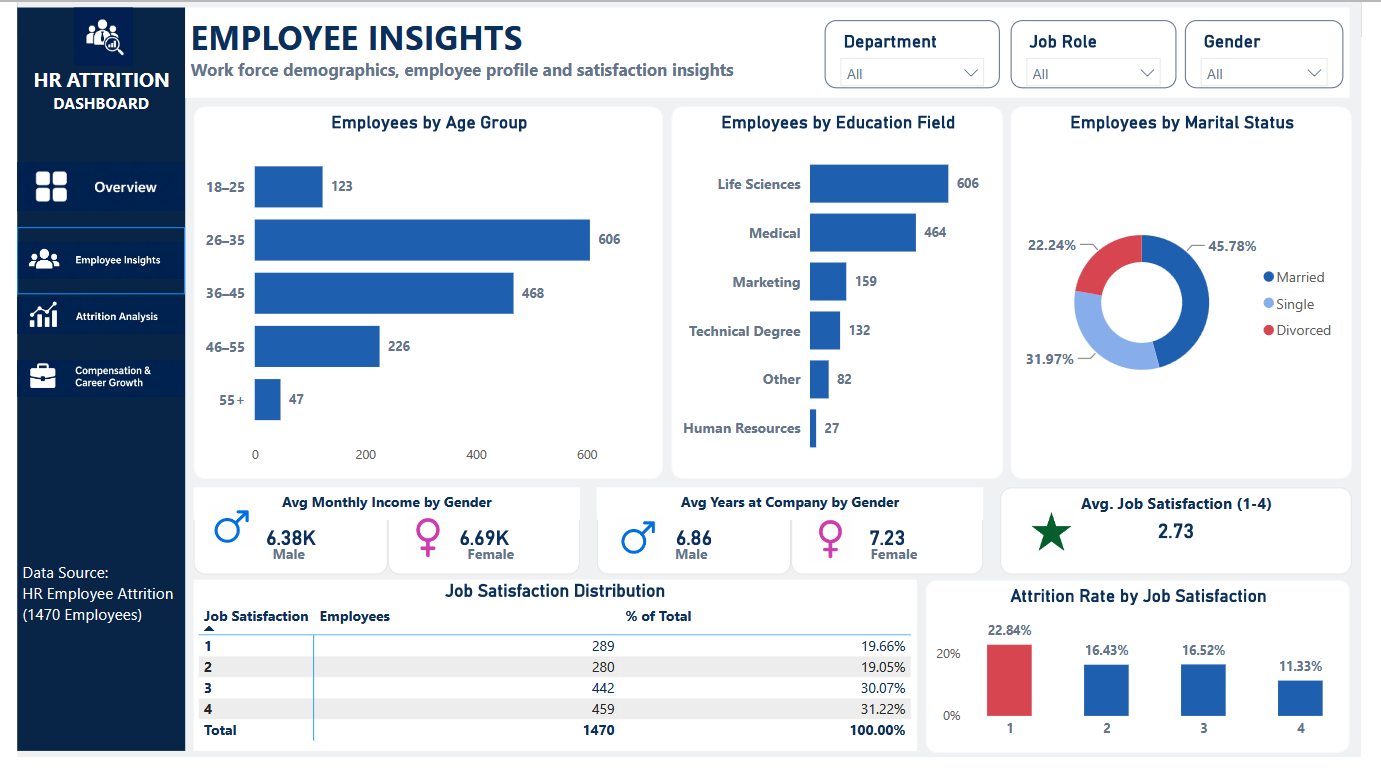

This screenshot's page, from the dashboard's own definition file:
{"tool":"powerbi","page":{"name":"Employee Insights","canvas":[1280,720],"ordinal":1},"visuals":[{"type":"textbox","box":[0,6.5,160.3,707.6],"z":0},{"type":"textbox","box":[160.3,6.5,1109.2,85.8],"z":1000},{"type":"clusteredBarChart","title":"Employees by Age Group","fields":{"Category":["HR Attrition.Age Group"],"Y":["HR Attrition.Total Employees"]},"box":[168.4,100.4,446.9,354.6],"z":2000},{"type":"barChart","title":"Employees by Education Field","fields":{"Category":["HR Attrition.education_field"],"Y":["HR Attrition.Total Employees"]},"box":[623.4,100.4,315.7,354.6],"z":3000},{"type":"donutChart","title":"Employees by Marital Status","fields":{"Category":["HR Attrition.marital_status"],"Y":["HR Attrition.Total Employees"]},"box":[945.6,100.4,325.5,354.6],"z":4000},{"type":"slicer","fields":{"Values":["HR Attrition.department"]},"box":[769.1,17.8,166.8,64.8],"z":5000},{"type":"image","box":[0,215.4,160.3,63.1],"z":6000},{"type":"image","box":[0,260.7,160.3,77.7],"z":7000},{"type":"image","box":[0,320.6,160.3,77.7],"z":8000},{"type":"image","box":[0,137.6,160.3,77.7],"z":9000},{"type":"image","box":[14.6,6.5,134.4,55.1],"z":10000},{"type":"textbox","box":[0,527.9,160.3,103.6],"z":11000},{"type":"slicer","fields":{"Values":["HR Attrition.job_role"]},"box":[945.6,17.8,158.7,64.8],"z":12000},{"type":"slicer","fields":{"Values":["HR Attrition.gender"]},"box":[1112.4,17.8,150.6,64.8],"z":13000},{"type":"shape","box":[168.4,463.1,367.6,82.6],"z":14000},{"type":"card","fields":{"Values":["HR Attrition.Avg Monthly Income Male"]},"box":[168.4,476.1,184.6,69.6],"z":15000},{"type":"card","fields":{"Values":["HR Attrition.Avg Monthly Income Female"]},"box":[353,476.1,183,69.6],"z":16000},{"type":"textbox","box":[168.4,463.1,367.6,30.8],"z":17000},{"type":"textbox","box":[179.7,511.7,157.1,34],"z":18000},{"type":"textbox","box":[365.9,511.7,170,34],"z":19000},{"type":"card","fields":{"Values":["HR Attrition.Avg Years at Company Male"]},"box":[552.2,476.1,184.6,69.6],"z":20000},{"type":"card","fields":{"Values":["HR Attrition.Avg Years at Company Female"]},"box":[736.7,476.1,183,69.6],"z":21000},{"type":"textbox","box":[552.2,463.1,367.6,30.8],"z":22000},{"type":"textbox","box":[563.5,511.7,157.1,34],"z":23000},{"type":"textbox","box":[749.7,511.7,170,34],"z":24000},{"type":"card","fields":{"Values":["HR Attrition.Avg Job Satisfaction"]},"box":[935.9,463.1,335.2,82.6],"z":25000},{"type":"textbox","box":[939.2,463.1,330.3,42.1],"z":26000},{"type":"pivotTable","title":"Job Satisfaction Distribution","fields":{"Rows":["HR Attrition.job_satisfaction"],"Values":["HR Attrition.Total Employees","HR Attrition.Employee Percentage"]},"box":[168.4,550.5,688.2,163.5],"z":27000},{"type":"clusteredColumnChart","title":"Attrition Rate by Job Satisfaction","fields":{"Category":["HR Attrition.job_satisfaction"],"Y":["HR Attrition.Attrition Rate"]},"box":[864.7,550.5,404.8,165.2],"z":28000},{"type":"image","box":[179.7,479.3,48.6,43.7],"z":29000},{"type":"image","box":[365.9,489,48.6,43.7],"z":30000},{"type":"image","box":[566.7,489,48.6,43.7],"z":31000},{"type":"image","box":[749.7,490.6,48.6,43.7],"z":32000},{"type":"image","box":[960.2,484.1,48.6,43.7],"z":33000}]}

Visuals, with their boxes in screenshot pixels (x1, y1, x2, y2), scaled from the page's 1280x720 canvas onto the 1381x772 screenshot:
textbox: bbox=[0, 7, 173, 766]
textbox: bbox=[173, 7, 1370, 99]
"Employees by Age Group" clusteredBarChart: bbox=[182, 108, 664, 488]
"Employees by Education Field" barChart: bbox=[673, 108, 1013, 488]
"Employees by Marital Status" donutChart: bbox=[1020, 108, 1371, 488]
slicer - HR Attrition.department: bbox=[830, 19, 1010, 89]
image: bbox=[0, 231, 173, 299]
image: bbox=[0, 280, 173, 363]
image: bbox=[0, 344, 173, 427]
image: bbox=[0, 148, 173, 231]
image: bbox=[16, 7, 161, 66]
textbox: bbox=[0, 566, 173, 677]
slicer - HR Attrition.job_role: bbox=[1020, 19, 1191, 89]
slicer - HR Attrition.gender: bbox=[1200, 19, 1363, 89]
shape: bbox=[182, 497, 578, 585]
card - HR Attrition.Avg Monthly Income Male: bbox=[182, 510, 381, 585]
card - HR Attrition.Avg Monthly Income Female: bbox=[381, 510, 578, 585]
textbox: bbox=[182, 497, 578, 530]
textbox: bbox=[194, 549, 363, 585]
textbox: bbox=[395, 549, 578, 585]
card - HR Attrition.Avg Years at Company Male: bbox=[596, 510, 795, 585]
card - HR Attrition.Avg Years at Company Female: bbox=[795, 510, 992, 585]
textbox: bbox=[596, 497, 992, 530]
textbox: bbox=[608, 549, 777, 585]
textbox: bbox=[809, 549, 992, 585]
card - HR Attrition.Avg Job Satisfaction: bbox=[1010, 497, 1371, 585]
textbox: bbox=[1013, 497, 1370, 542]
"Job Satisfaction Distribution" pivotTable: bbox=[182, 590, 924, 766]
"Attrition Rate by Job Satisfaction" clusteredColumnChart: bbox=[933, 590, 1370, 767]
image: bbox=[194, 514, 246, 561]
image: bbox=[395, 524, 447, 571]
image: bbox=[611, 524, 664, 571]
image: bbox=[809, 526, 861, 573]
image: bbox=[1036, 519, 1088, 566]
